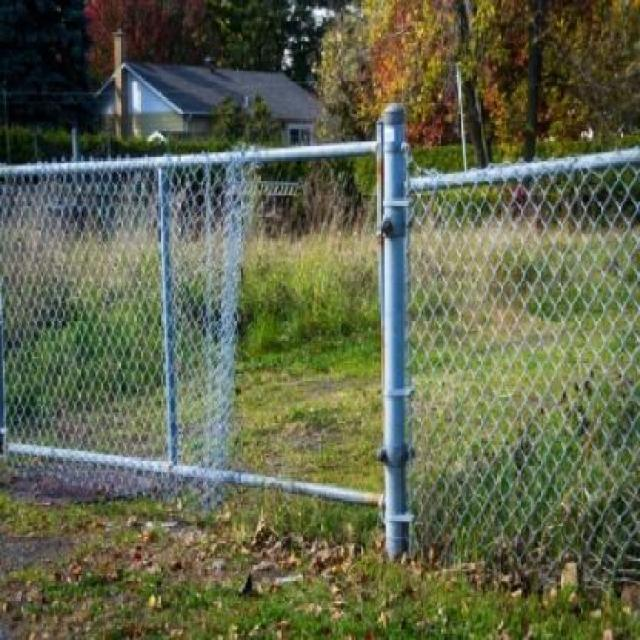fence line: (236, 159, 415, 546)
